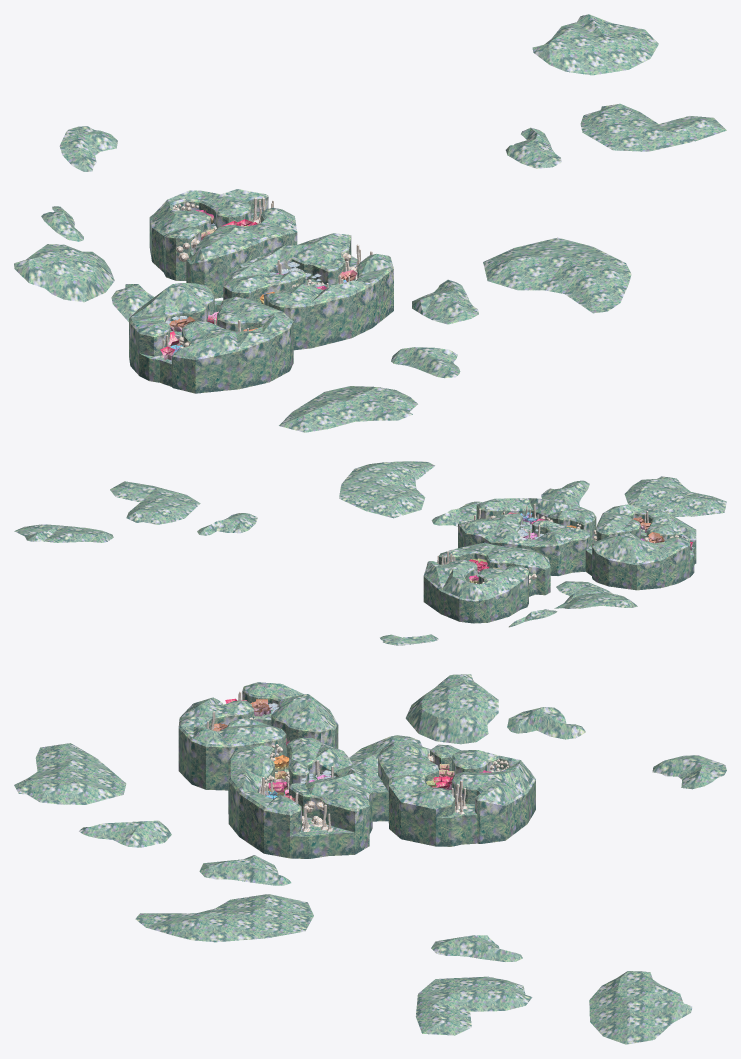
File: coral00_bake.dae
The picture shows the model from 3 angles, top to bottom: view 1: azimuth 30°, elevation 25°; view 2: azimuth 150°, elevation 25°; view 3: azimuth 270°, elevation 25°; orthographic projection. The views are drawn at different scales.
Parts seen in each view (by area): view 1: m0, m1, m1_VC; view 2: m0, m1, m1_VC; view 3: m0, m1, m1_VC.
Boxes of the visible parts, x1,y1,x2,y2 form: m0: (14,14,726,432); m1: (160,197,372,358); m1_VC: (160,210,357,360); m0: (14,461,726,645); m1: (437,504,683,584); m1_VC: (469,512,692,583); m0: (14,674,726,1044); m1: (207,691,509,831); m1_VC: (211,698,491,801).
Size of the model in its own units: 18333 by 1380 by 15369.
4 materials, 4 textured.
